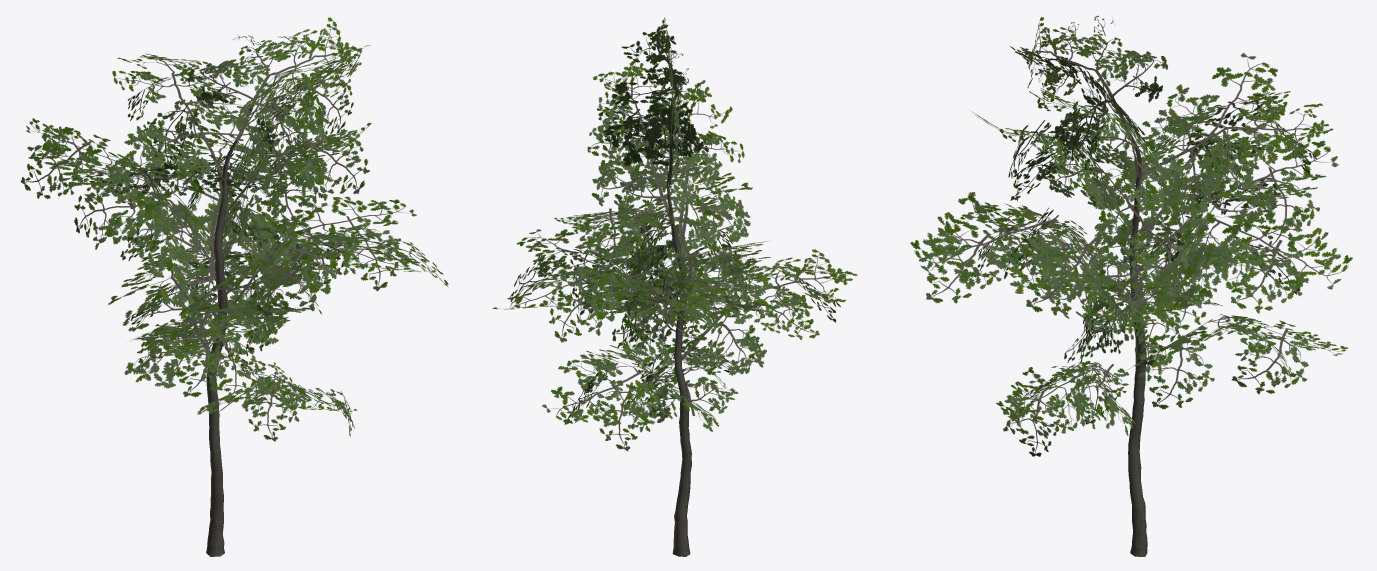
The model's file is oak_small_2.glb.
The picture shows the model from 3 angles, left to right: view 1: azimuth 30°, elevation 25°; view 2: azimuth 150°, elevation 25°; view 3: azimuth 270°, elevation 25°; orthographic projection. The views are drawn at different scales.
Parts seen in each view (by area): view 1: Small_oak_tree__002_LOD1_Cluster_Mat_0, Small_oak_tree__002_LOD1_Bark_Mat_0; view 2: Small_oak_tree__002_LOD1_Cluster_Mat_0, Small_oak_tree__002_LOD1_Bark_Mat_0; view 3: Small_oak_tree__002_LOD1_Cluster_Mat_0, Small_oak_tree__002_LOD1_Bark_Mat_0.
Part boxes in pixels (x1,y1,x2,y2): Small_oak_tree__002_LOD1_Cluster_Mat_0: (20, 17, 448, 441); Small_oak_tree__002_LOD1_Bark_Mat_0: (206, 139, 238, 556); Small_oak_tree__002_LOD1_Cluster_Mat_0: (492, 17, 857, 451); Small_oak_tree__002_LOD1_Bark_Mat_0: (666, 181, 691, 556); Small_oak_tree__002_LOD1_Cluster_Mat_0: (910, 15, 1352, 456); Small_oak_tree__002_LOD1_Bark_Mat_0: (1128, 137, 1147, 556).
Size of the model in its own units: 3.42 by 5.39 by 3.94.
Materials: 2 (2 with a texture image).
